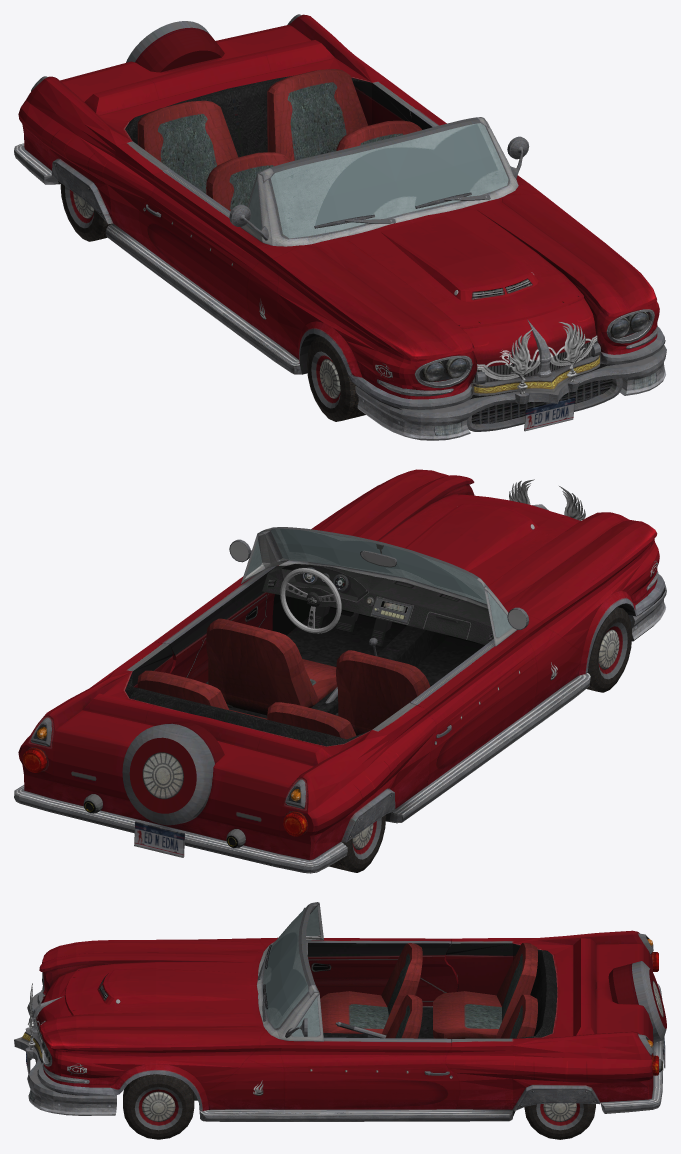
File: enzo_car.obj
3 views of the same model, one above another, from view 1: azimuth 30°, elevation 25°; view 2: azimuth 150°, elevation 25°; view 3: azimuth 270°, elevation 25° (orthographic). The views are drawn at different scales.
Parts seen in each view (by area): view 1: mesh23, mesh7, mesh18, mesh25, mesh16, mesh24, mesh15, mesh13, mesh22, mesh0, mesh1, mesh14 (+4 smaller); view 2: mesh23, mesh7, mesh16, mesh15, mesh3, mesh25, mesh11, mesh10, mesh13, mesh14, mesh0, mesh18 (+7 smaller); view 3: mesh23, mesh16, mesh7, mesh15, mesh18, mesh25, mesh0, mesh1, mesh13, mesh24, mesh11, mesh14 (+3 smaller).
Boxes of the visible parts, box(x1,y1,x2,y2) form: mesh23: box(18, 14, 659, 399); mesh7: box(137, 69, 421, 211); mesh18: box(229, 117, 666, 440); mesh25: box(246, 123, 508, 238); mesh16: box(139, 108, 529, 325); mesh24: box(299, 309, 664, 409); mesh15: box(14, 125, 301, 374); mesh13: box(125, 75, 411, 157); mesh22: box(259, 298, 597, 394); mesh0: box(65, 119, 600, 408); mesh1: box(60, 183, 365, 421); mesh14: box(135, 27, 224, 72); mesh23: box(18, 469, 659, 860); mesh7: box(137, 564, 493, 739); mesh16: box(154, 566, 537, 785); mesh15: box(14, 673, 590, 873); mesh3: box(228, 607, 484, 718); mesh25: box(246, 528, 512, 637); mesh11: box(122, 587, 516, 825); mesh10: box(22, 717, 436, 857); mesh13: box(125, 644, 370, 746); mesh14: box(129, 721, 224, 813); mesh0: box(258, 536, 627, 859); mesh18: box(229, 504, 666, 641); mesh23: box(36, 930, 653, 1111); mesh16: box(280, 938, 459, 1109); mesh7: box(320, 943, 537, 1039); mesh15: box(200, 984, 663, 1121); mesh18: box(14, 902, 319, 1115); mesh25: box(263, 906, 319, 1036); mesh0: box(134, 984, 583, 1130); mesh1: box(123, 1074, 595, 1139); mesh13: box(446, 943, 557, 1038); mesh24: box(21, 972, 202, 1111); mesh11: box(632, 961, 666, 1042); mesh14: box(608, 963, 666, 1042).
Size of the model in its own units: 5.42 by 2.95 by 12.05.
15 materials, 15 textured.
